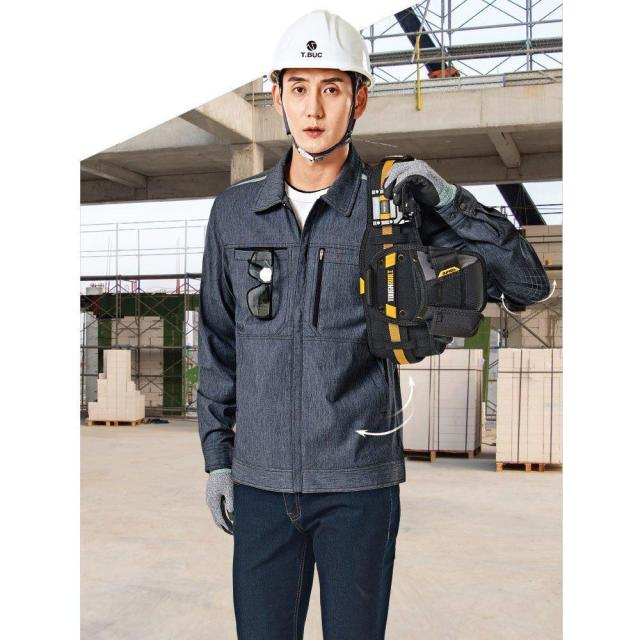helmet: (270, 9, 376, 79)
